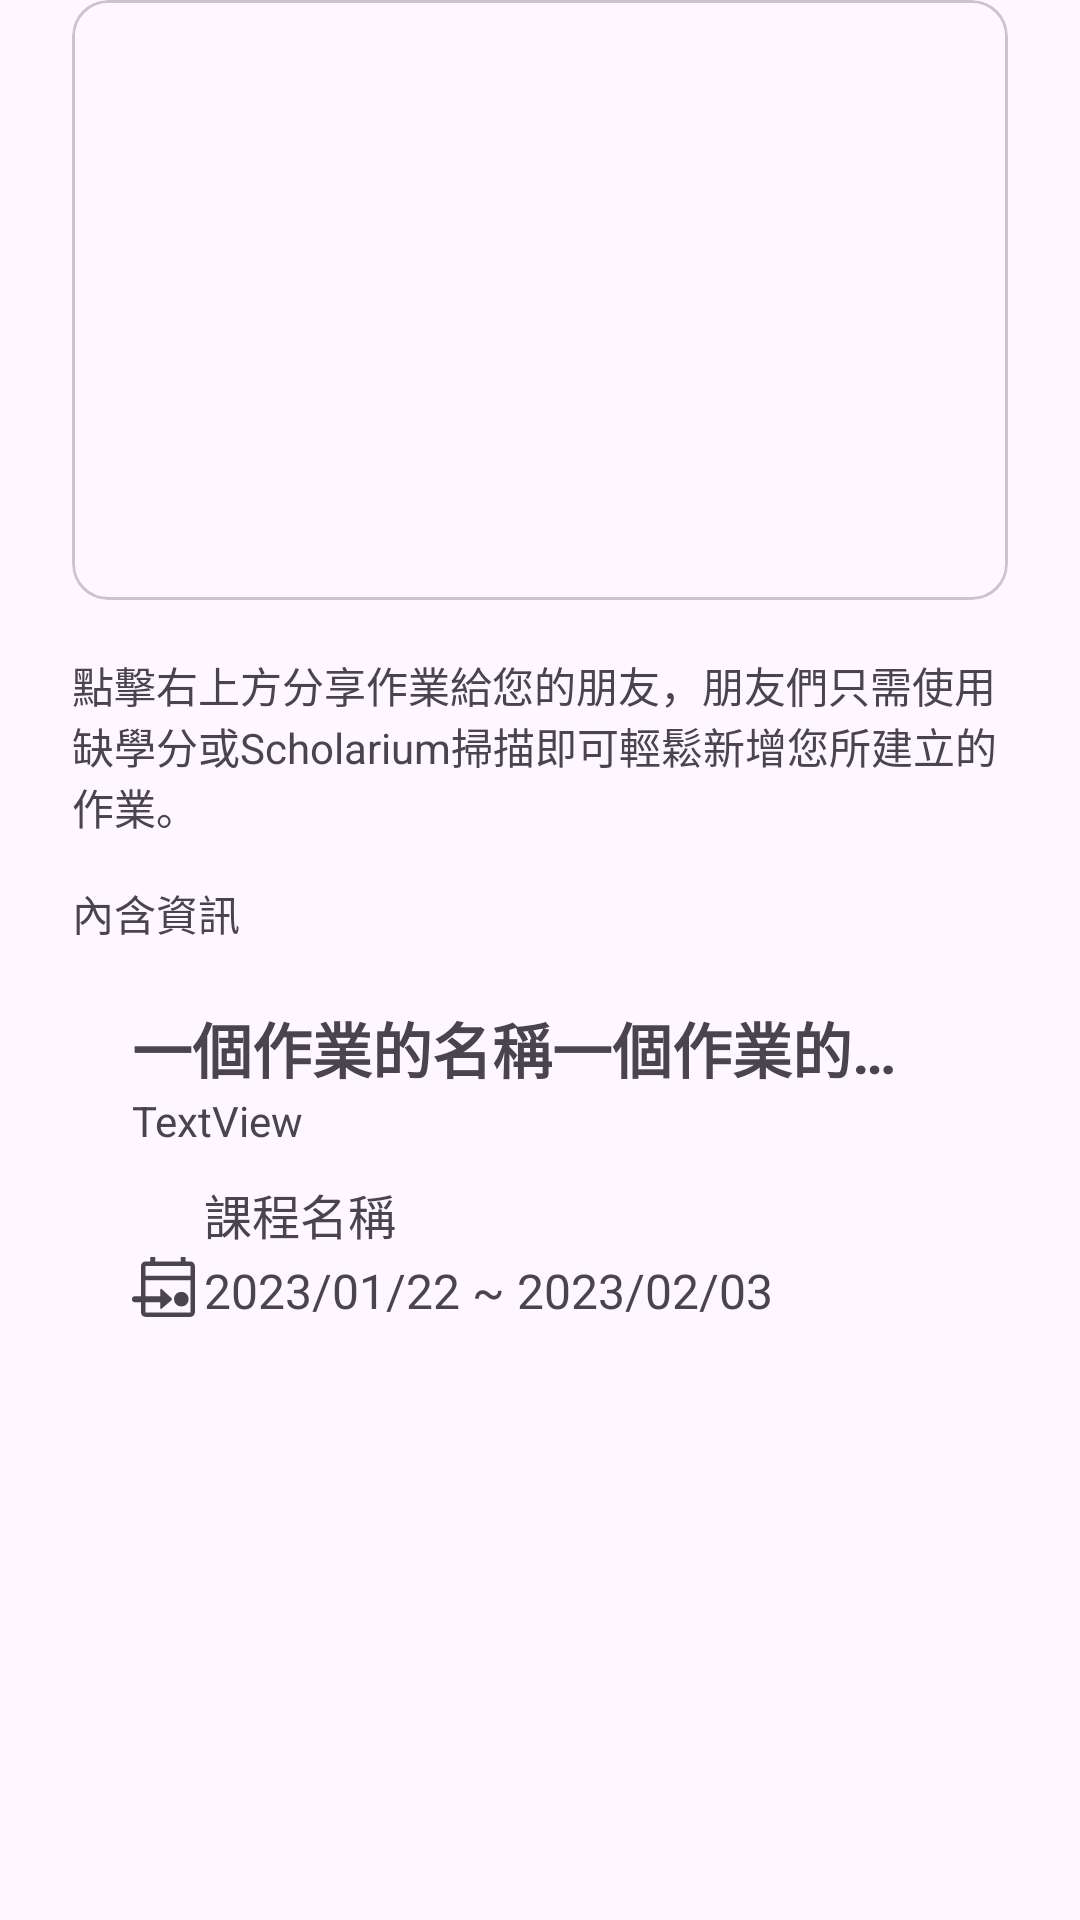

Point at icon controls on the screen. Image size 1080px x 1920px, points as (x,y).
截止時間: (163,1287)
